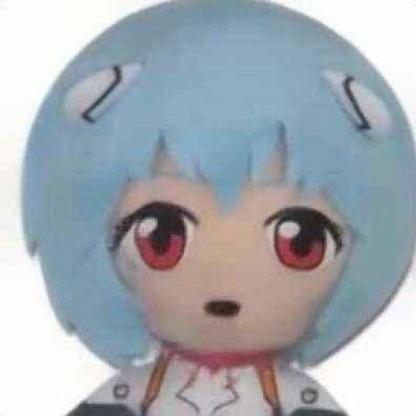rei-plush: (9, 0, 415, 416)
